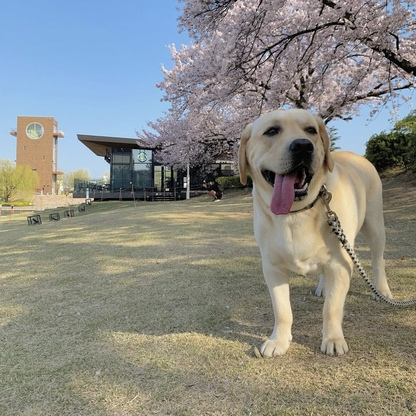labrado: (235, 106, 397, 361)
